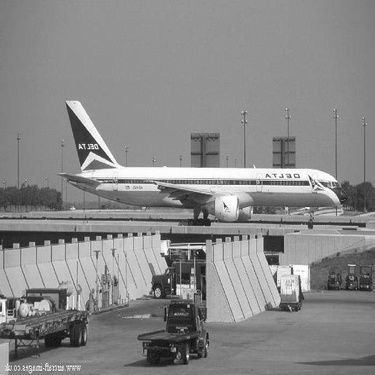airplane: (10, 89, 346, 227)
